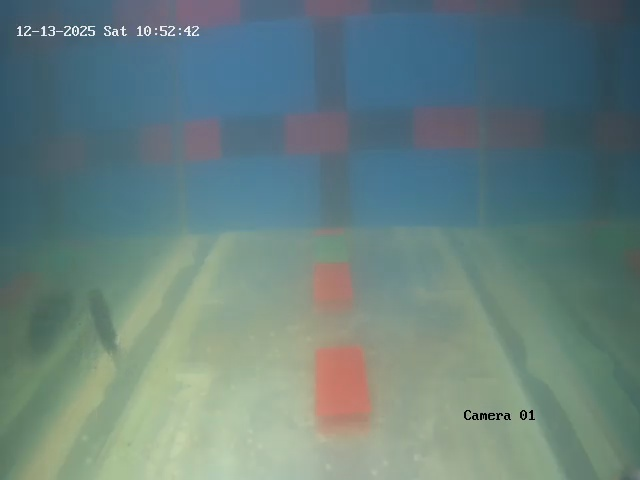fish: (78, 274, 139, 369)
